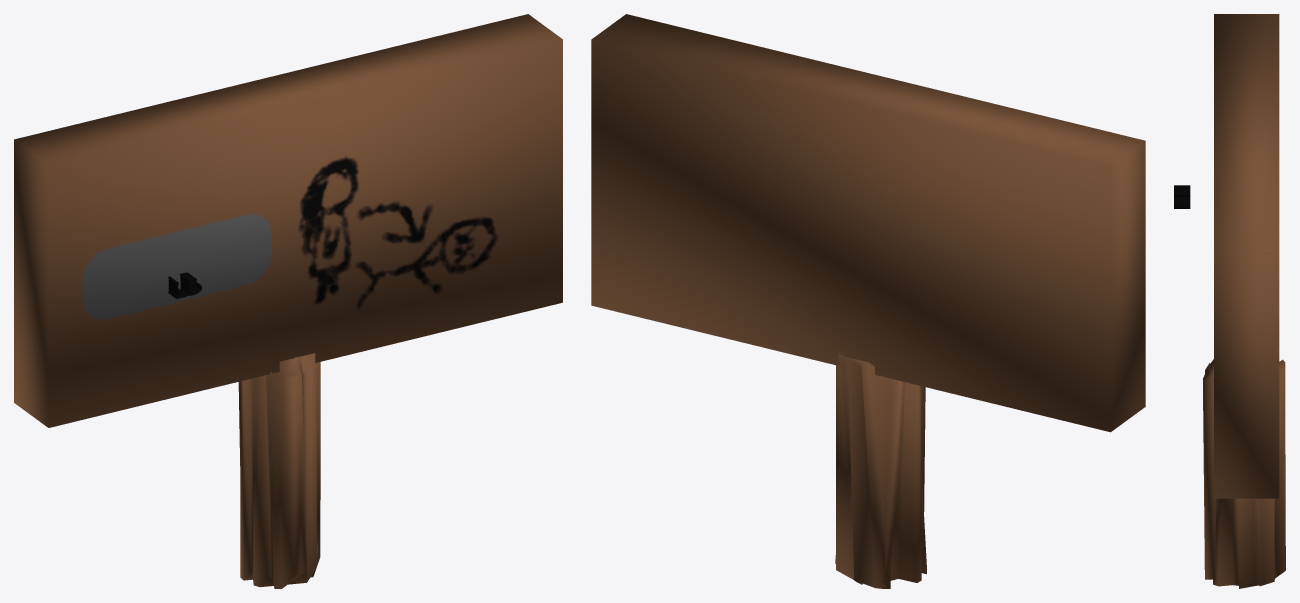
File: woodensignblendPossess.fbx
The picture shows the model from 3 angles, left to right: view 1: azimuth 30°, elevation 25°; view 2: azimuth 150°, elevation 25°; view 3: azimuth 270°, elevation 25°; orthographic projection. The views are drawn at different scales.
Parts seen in each view (by area): view 1: node_id4; view 2: node_id4; view 3: node_id4, node_id162.
Boxes of the visible parts, box(x1,y1,x2,y2) form: node_id4: box(14, 14, 562, 588); node_id4: box(591, 14, 1145, 588); node_id4: box(1203, 14, 1285, 588); node_id162: box(1174, 185, 1190, 208).
Bounding box in the file's own units: 0.512 × 0.4532 × 0.1023.
Materials: 2 (1 with a texture image).
